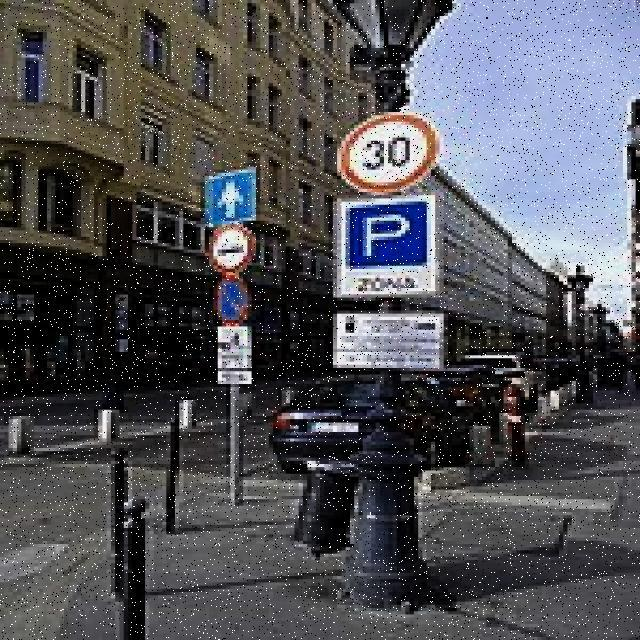Traffic sign: (324, 108, 454, 378), (194, 165, 264, 392)
